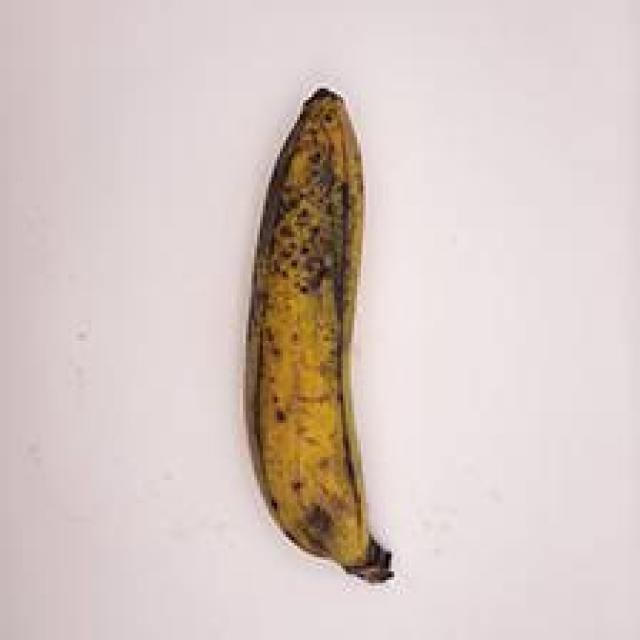Overripe: (212, 59, 449, 628)
